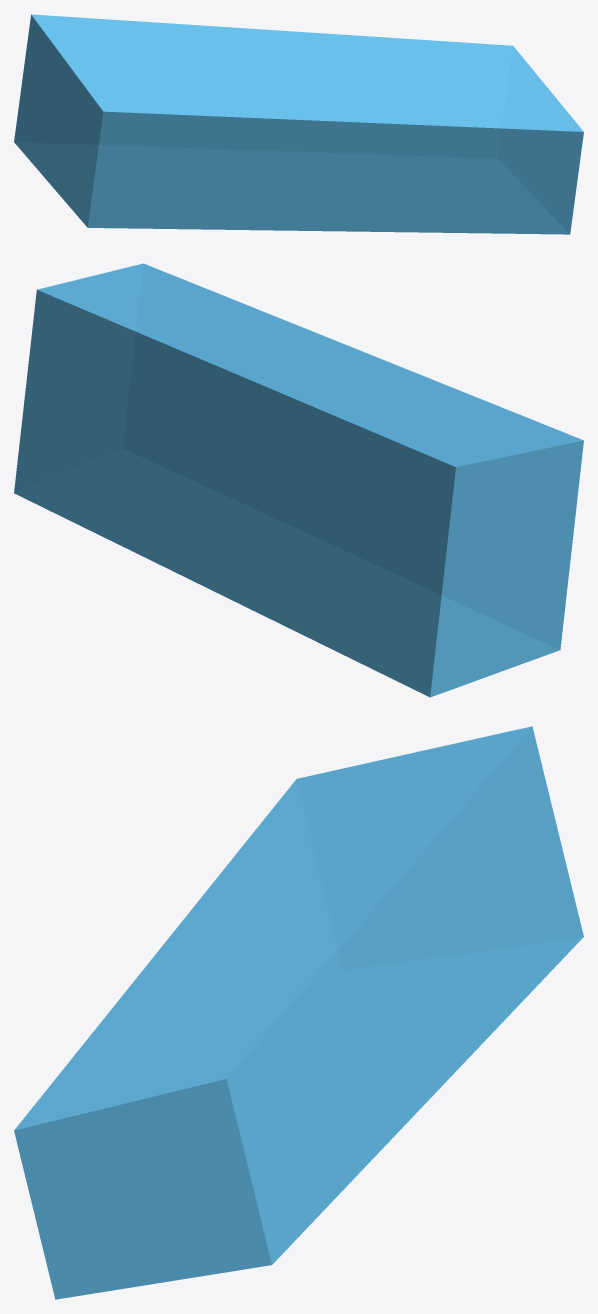
The model's file is Event_421556567_HErechit_1.fbx.
3 views of the same model, one above another, from view 1: azimuth 30°, elevation 25°; view 2: azimuth 150°, elevation 25°; view 3: azimuth 270°, elevation 25° (orthographic). The views are drawn at different scales.
Visible parts, largest first — view 1: Model; view 2: Model; view 3: Model.
Boxes of the visible parts, <box> form: Model: <box>14,14,583,234</box>; Model: <box>14,263,583,697</box>; Model: <box>14,726,583,1299</box>.
Bounding box in the file's own units: 1.33 × 0.646 × 1.13.
